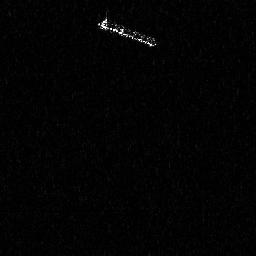ship: (96, 15, 159, 49)
